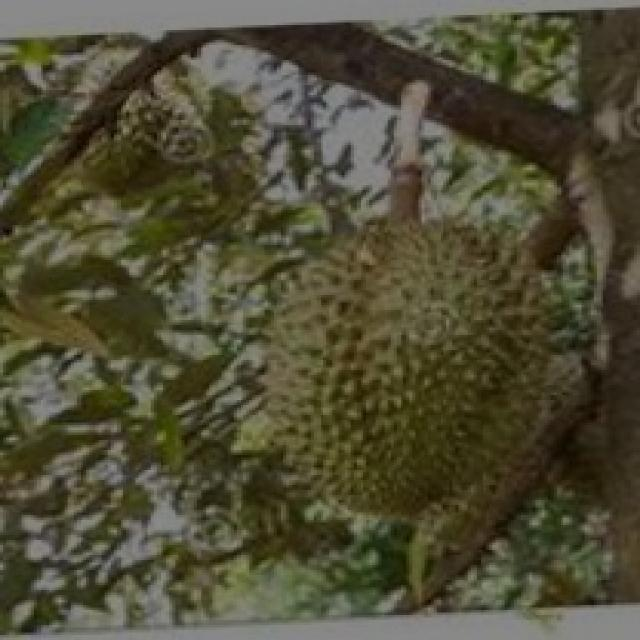fruit: (231, 172, 634, 562)
